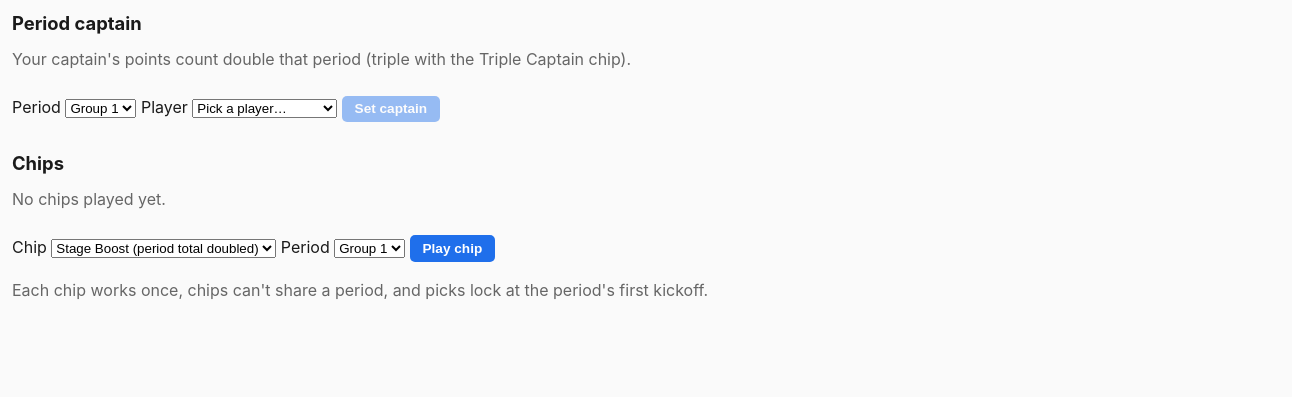
Test: ChipsPanel › POSTs a chip play and moves the chip to the played list
Select "Group 2" in the dropdown labelled "Period" below "No chips played yet." at (370, 248), box [334,239,405,258]
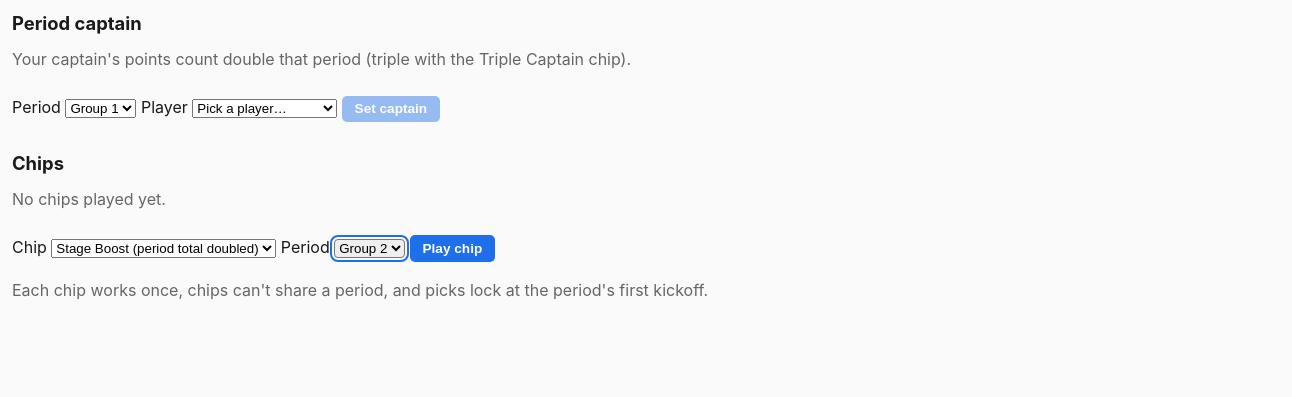
Click the button "Play chip" at (452, 248), box [410,235,495,262]
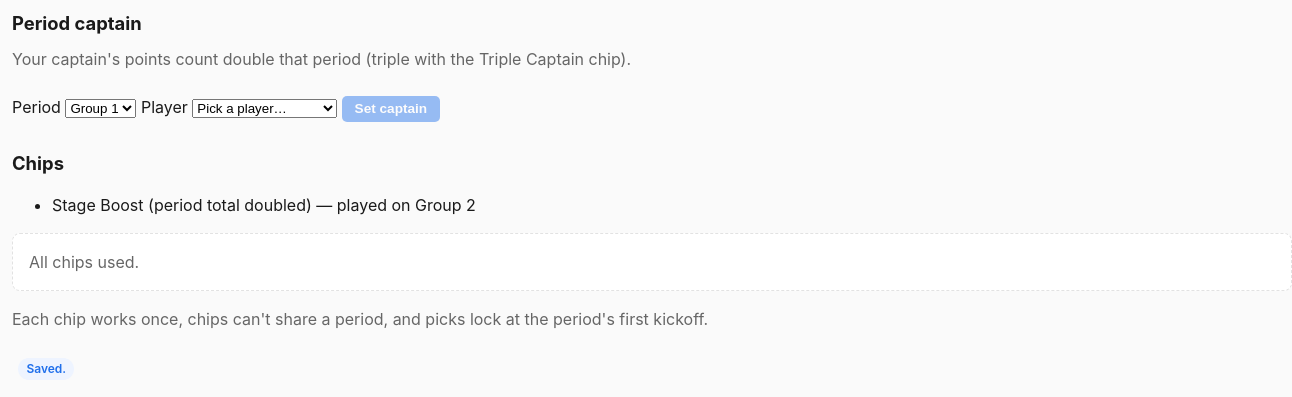
expect the text "All chips used." is shown: met, box [12,233,1291,291]
expect the list item "Stage Boost (period total doubled) — played on Group 2" is shown: met, box [52,195,476,215]
